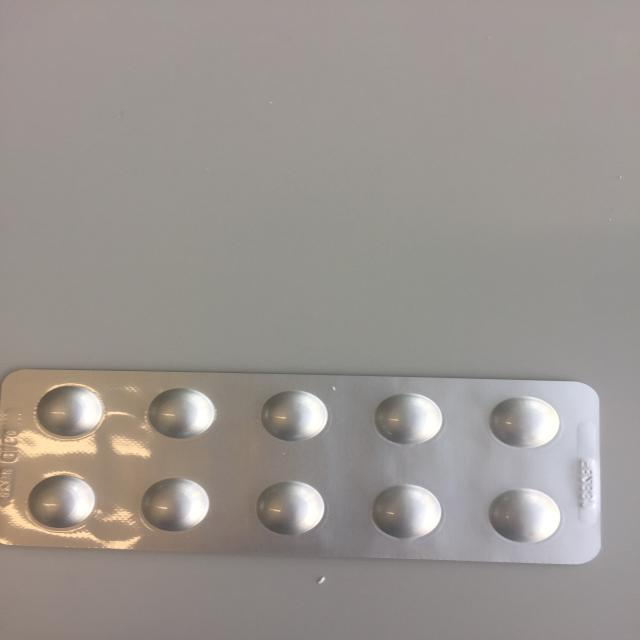Pill: (483, 485, 568, 545), (136, 476, 216, 534), (31, 381, 108, 441), (368, 484, 446, 542), (146, 385, 224, 443), (254, 478, 329, 538), (26, 472, 100, 532), (371, 389, 447, 447), (487, 394, 561, 452), (257, 388, 334, 443)
